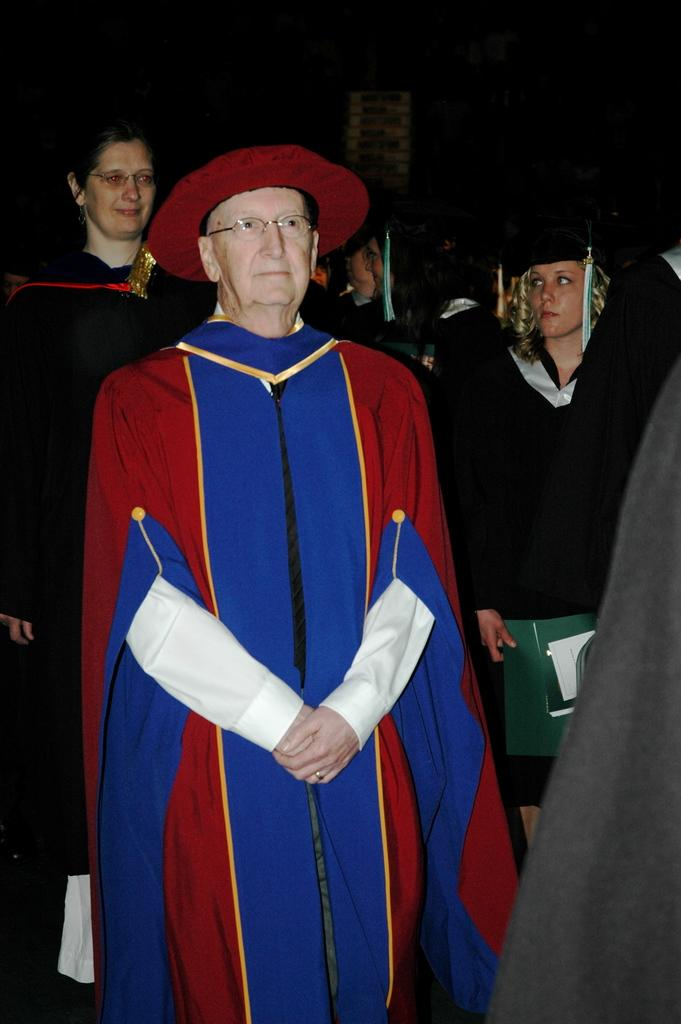Hat: (142, 140, 368, 284)
